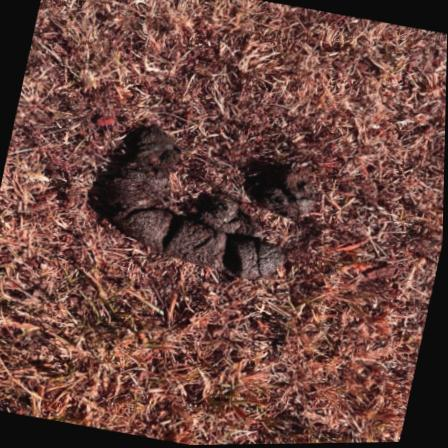dog-poop: (74, 103, 333, 286)
